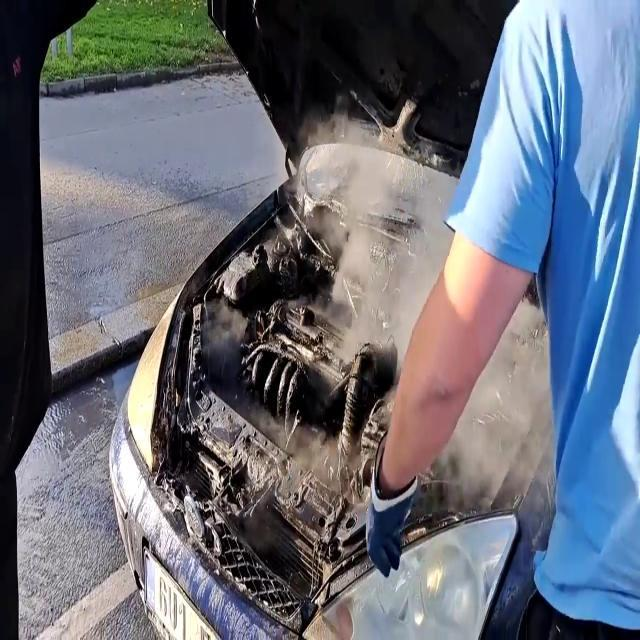Smoke: (303, 109, 560, 504)
